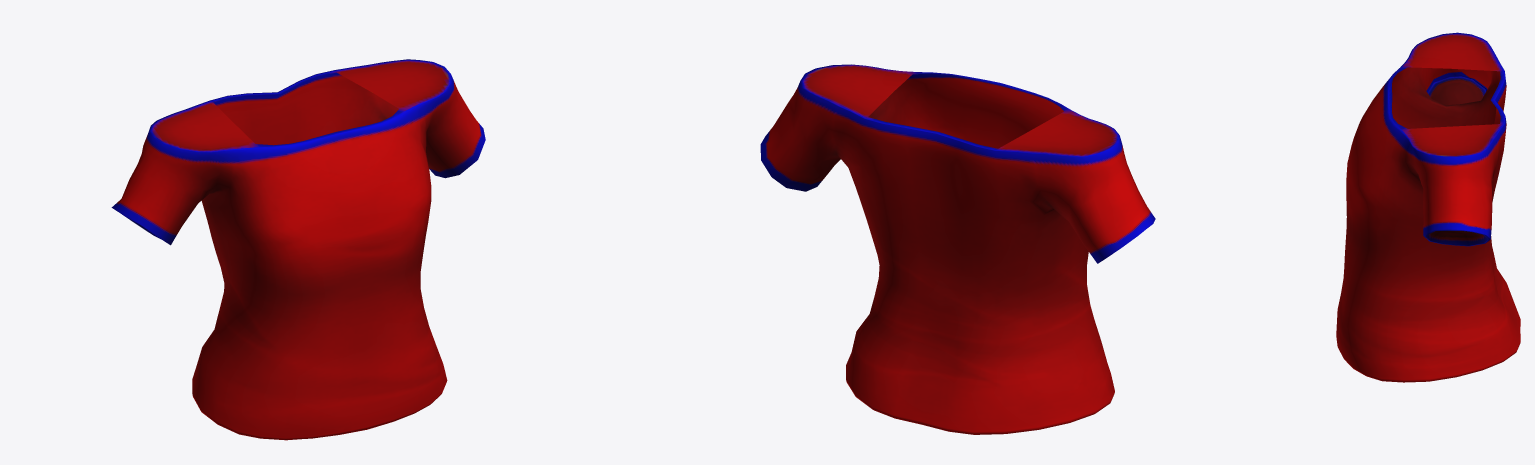
Rendered from Top_OpenShoulderStrapless.obj.
3 renders of one model, left to right at view 1: azimuth 30°, elevation 25°; view 2: azimuth 150°, elevation 25°; view 3: azimuth 270°, elevation 25°, orthographic. The views are drawn at different scales.
Parts seen in each view (by area): view 1: Top_OpenShoulderStrapless_0; view 2: Top_OpenShoulderStrapless_0; view 3: Top_OpenShoulderStrapless_0.
Part boxes in pixels (x1,y1,x2,y2): Top_OpenShoulderStrapless_0: [111, 59, 485, 440]; Top_OpenShoulderStrapless_0: [760, 64, 1155, 434]; Top_OpenShoulderStrapless_0: [1336, 32, 1520, 382].
Bounding box in the file's own units: 0.8632 × 0.4905 × 0.2583.
Materials: 1 (1 with a texture image).
